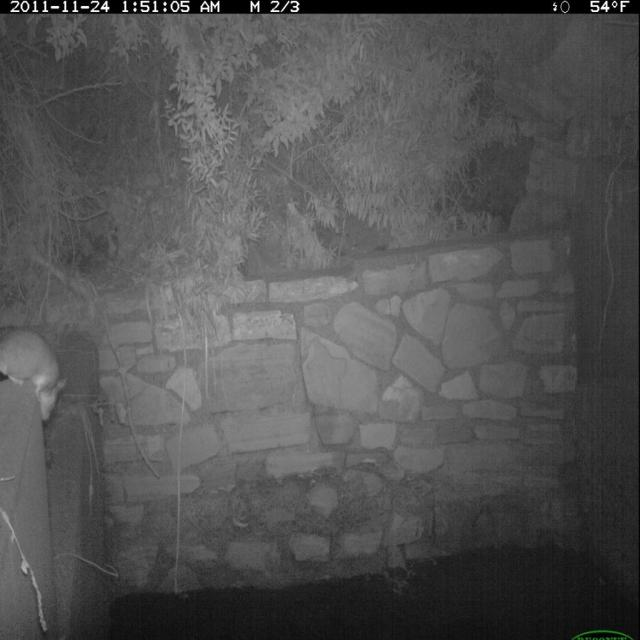rodent: (4, 317, 72, 429)
